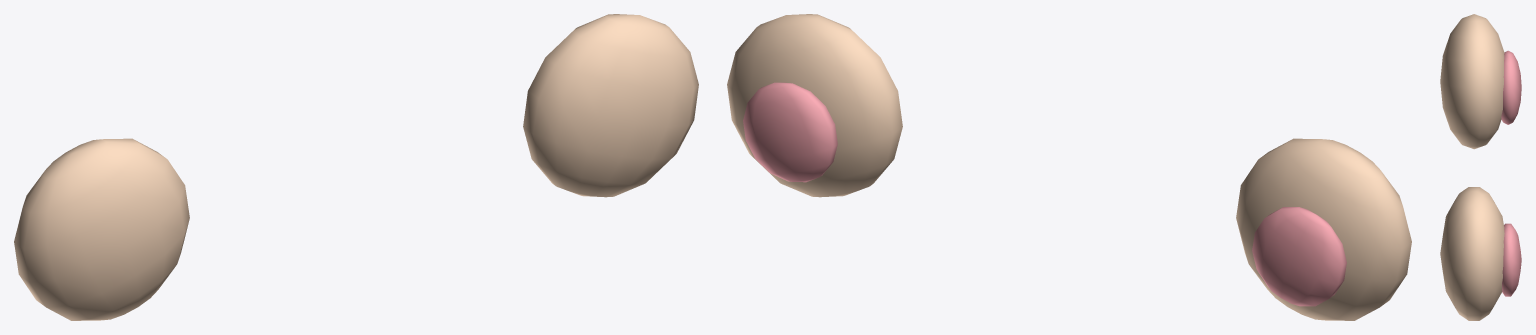
Rendered from Trait_RoundEars.fbx.
3 views of the same model, side by side, from view 1: azimuth 30°, elevation 25°; view 2: azimuth 150°, elevation 25°; view 3: azimuth 270°, elevation 25° (orthographic). The views are drawn at different scales.
Visible parts, largest first — view 1: Round_Ear.001, Round_Ear; view 2: Round_Ear.001, Round_Ear, Round_Ear_Inner, Round_Ear_Inner.001; view 3: Round_Ear.001, Round_Ear, Round_Ear_Inner.001, Round_Ear_Inner.
Boxes of the visible parts, box(x1,y1,x2,y2) form: Round_Ear.001: box(14, 138, 189, 320); Round_Ear: box(523, 14, 698, 197); Round_Ear.001: box(1236, 138, 1411, 320); Round_Ear: box(727, 14, 902, 197); Round_Ear_Inner: box(743, 82, 837, 182); Round_Ear_Inner.001: box(1252, 207, 1346, 306); Round_Ear.001: box(1440, 14, 1504, 149); Round_Ear: box(1440, 187, 1504, 320); Round_Ear_Inner.001: box(1501, 50, 1521, 124); Round_Ear_Inner: box(1502, 223, 1521, 296).
Size of the model in its own units: 79.55 by 19.92 by 12.
